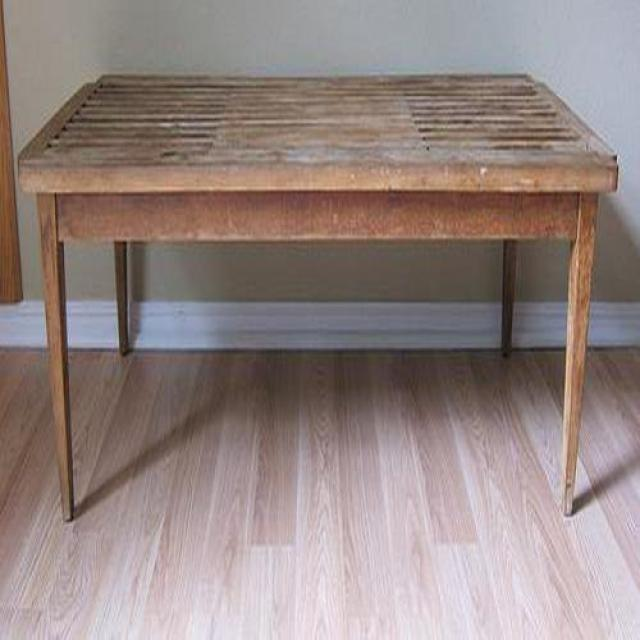table: (15, 73, 621, 524)
